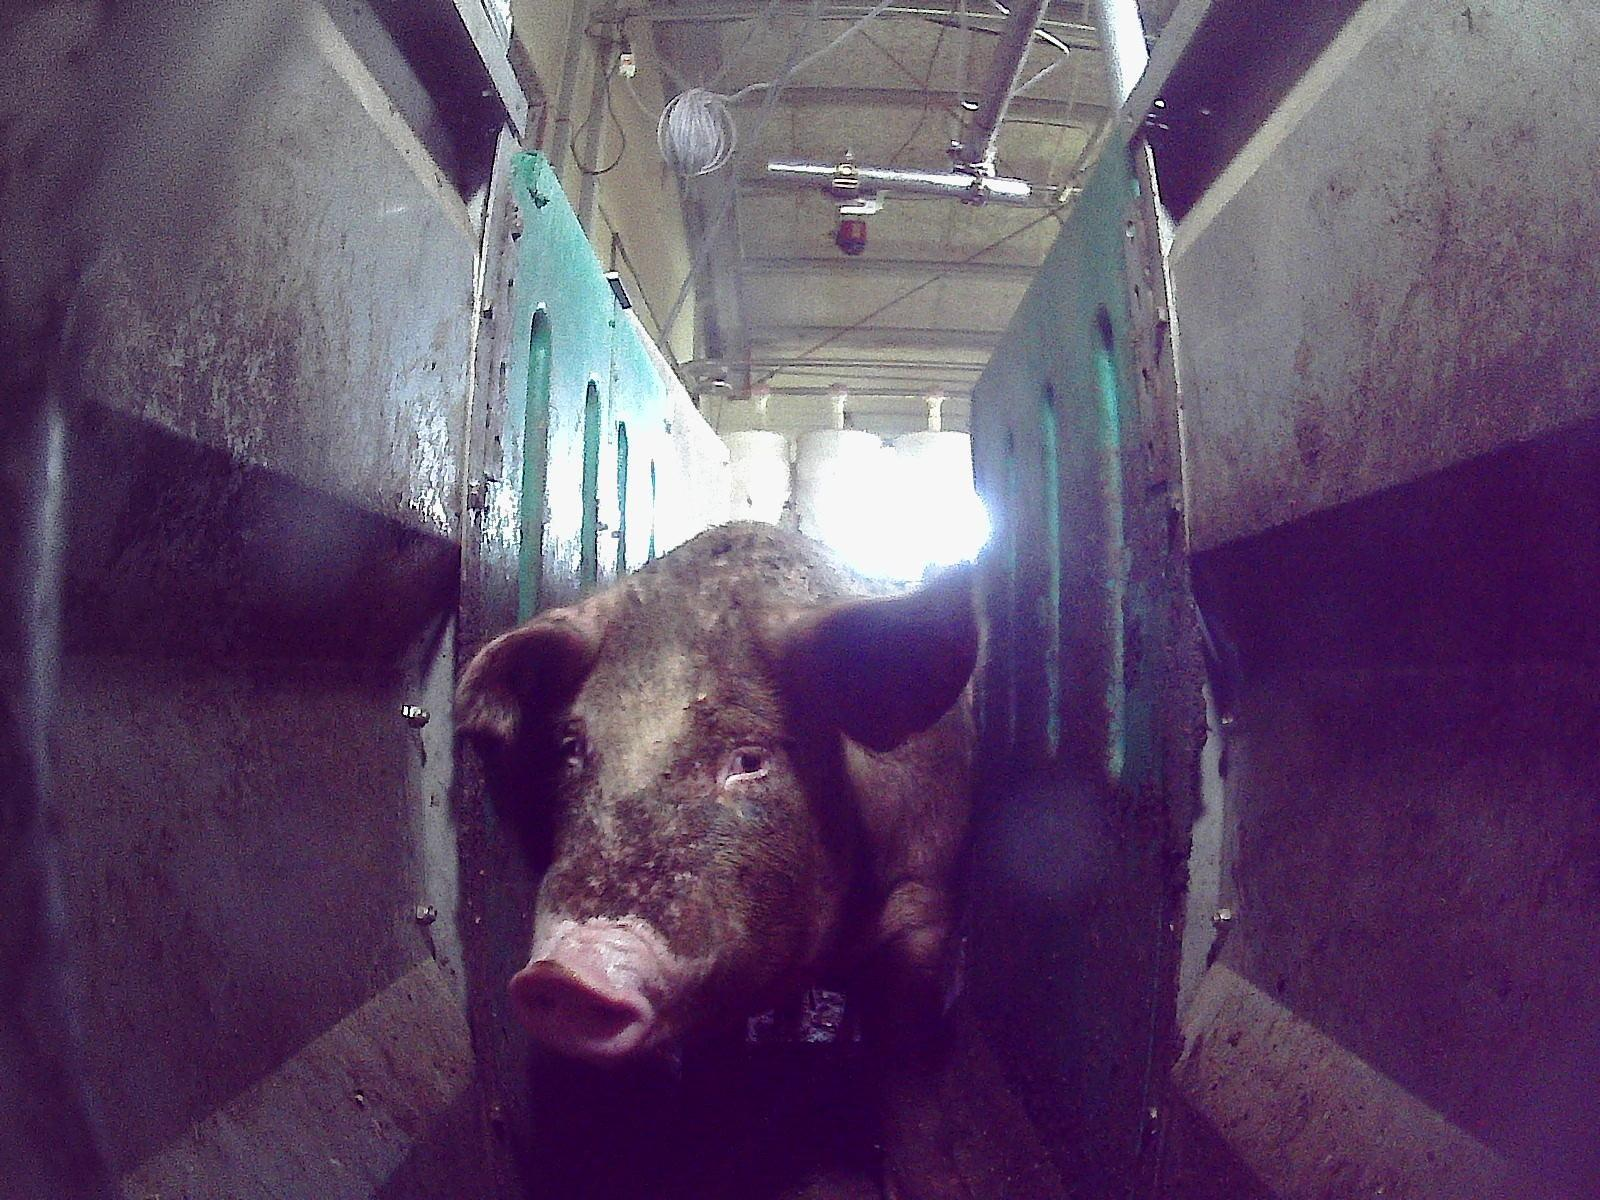Face: (509, 576, 847, 1064)
